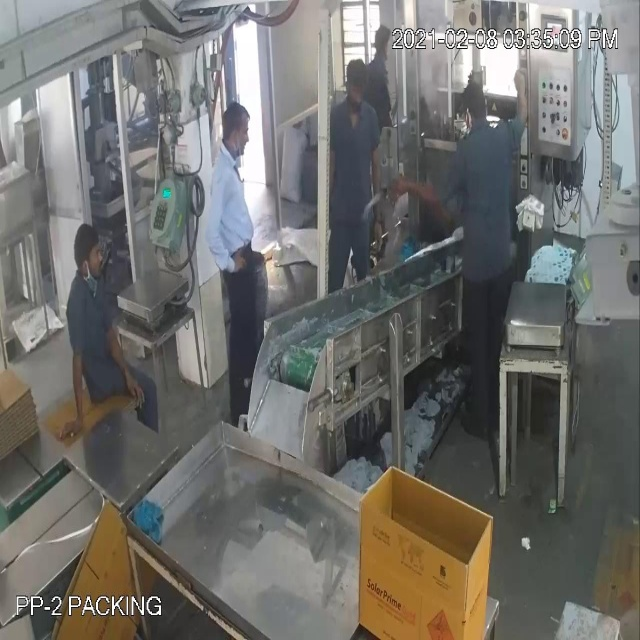Sin_guantes: (53, 324, 92, 455), (101, 312, 150, 412), (202, 181, 248, 284), (389, 171, 458, 232), (502, 68, 532, 148), (367, 132, 384, 256)
